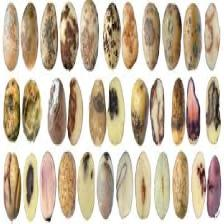Damaged potato: (1, 150, 22, 219)
Defected potato: (206, 150, 224, 221)
Diseased-fungal potato: (46, 73, 66, 152), (0, 0, 21, 75), (20, 77, 42, 148), (58, 0, 79, 74), (75, 146, 96, 220), (147, 74, 167, 149), (64, 78, 86, 146), (79, 0, 99, 74), (106, 74, 126, 148), (114, 148, 134, 222), (140, 1, 161, 71), (1, 76, 22, 144), (120, 1, 139, 76), (38, 149, 57, 224), (182, 3, 202, 74), (95, 148, 115, 219), (188, 150, 208, 221), (19, 2, 39, 72), (162, 2, 182, 72), (87, 76, 107, 146), (130, 76, 149, 149), (170, 151, 190, 220), (39, 3, 58, 74), (204, 1, 222, 74), (168, 74, 186, 146), (102, 2, 121, 70), (204, 75, 222, 146), (134, 148, 152, 219), (184, 77, 201, 150), (59, 148, 76, 221), (153, 150, 170, 219), (22, 154, 39, 220)
